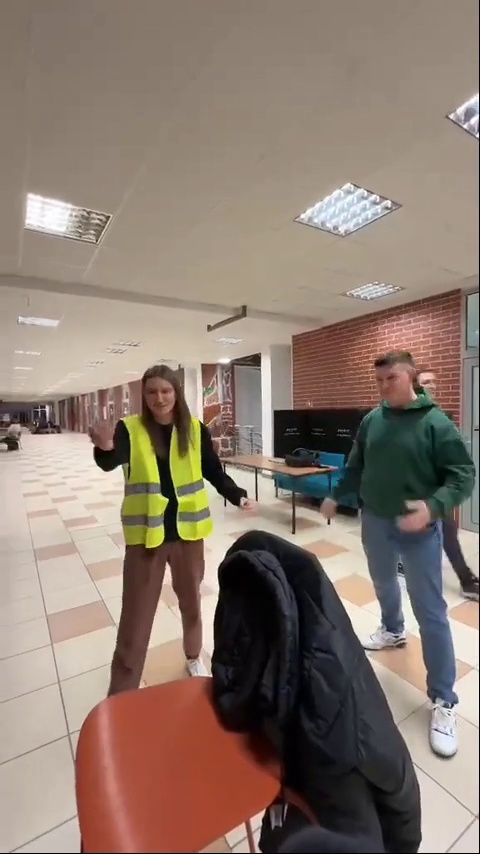no vest: (340, 350, 477, 766)
vest: (106, 368, 248, 688)
